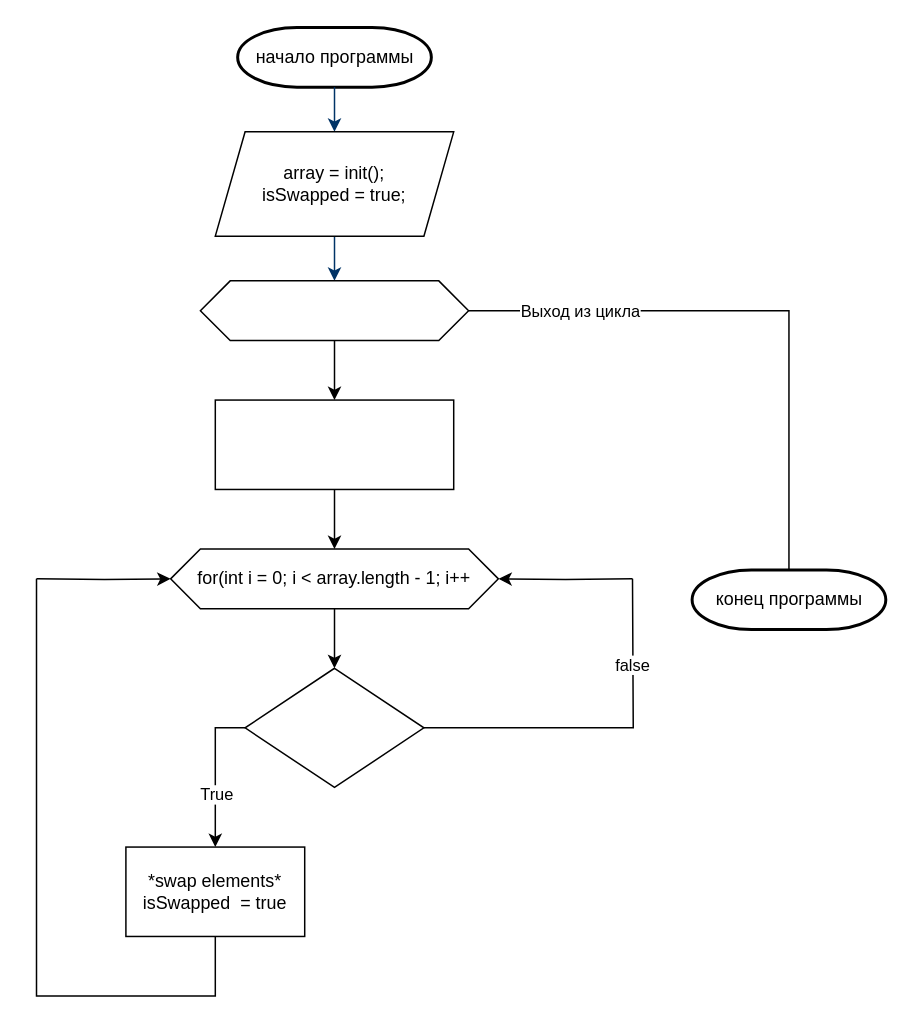
The diagram is 913 pixels wide and 1024 high, and some of its shapes have lost their labels. Each missing label, with the centre of its shape:
"array[i] > array[i+1]" belongs at (334,727).
"isSwapped = false;" belongs at (334,444).
"while(isSwapped)" belongs at (334,309).
